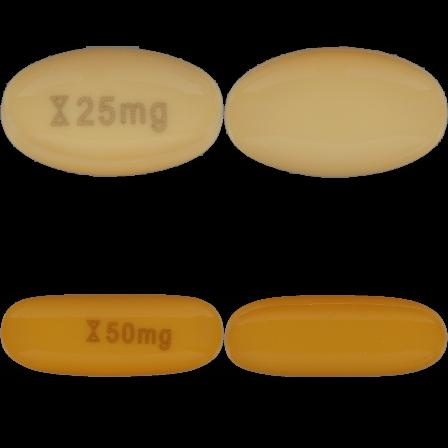0093-5740: (0, 0, 224, 224)
